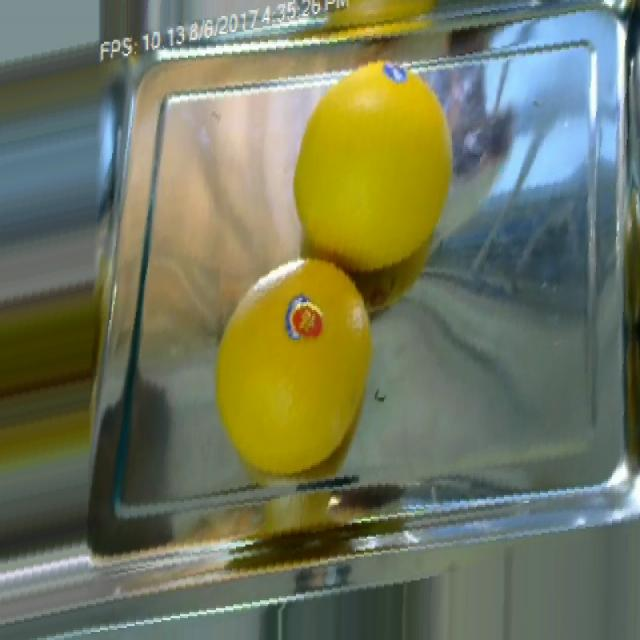Fruit: (281, 58, 479, 272)
